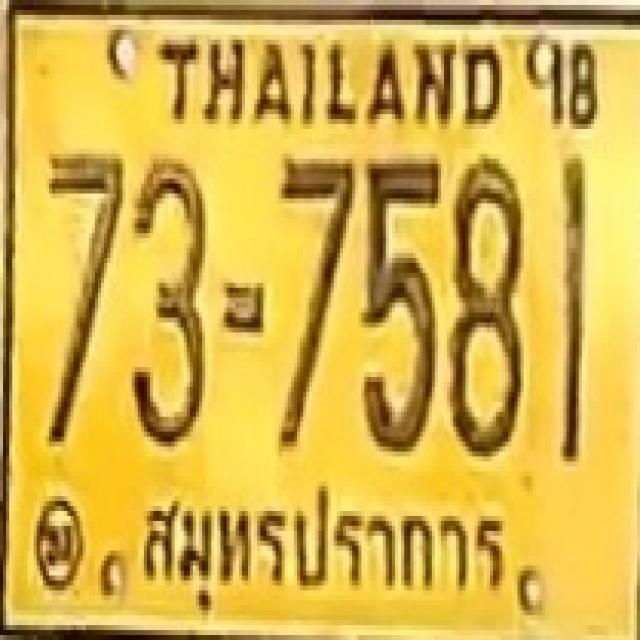1: (557, 159, 585, 461), (559, 154, 586, 451)
3: (129, 156, 205, 444)
5: (360, 154, 439, 451)
7: (44, 149, 124, 441), (277, 154, 354, 446)
8: (449, 154, 522, 456)
SPK: (133, 474, 514, 611)
